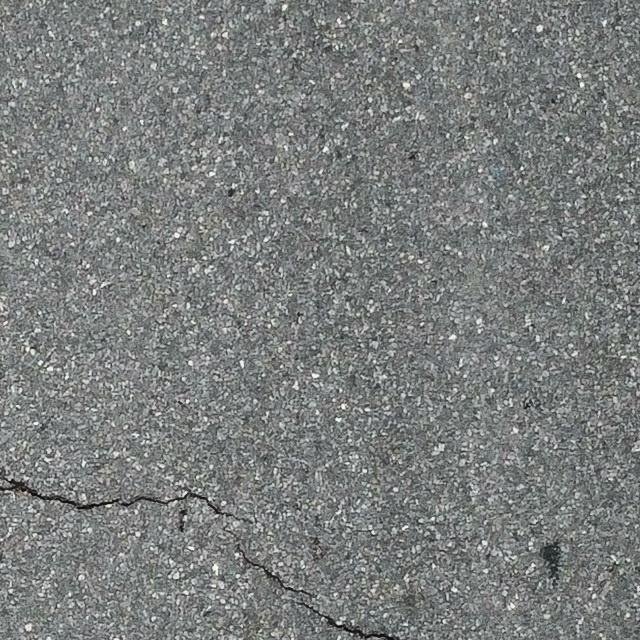TransverseCrack: (220, 529, 397, 639), (3, 475, 258, 524)
